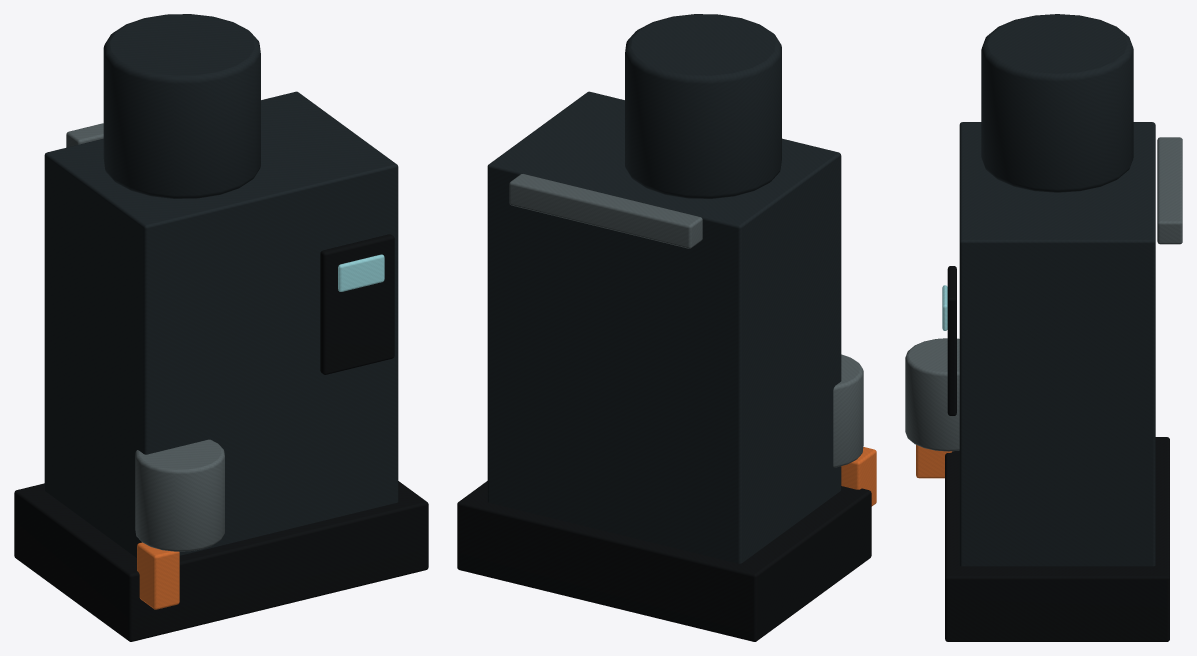
Rendered from PortableDeconUnit.glb.
3 views of the same model, side by side, from view 1: azimuth 30°, elevation 25°; view 2: azimuth 150°, elevation 25°; view 3: azimuth 270°, elevation 25° (orthographic). The views are drawn at different scales.
Parts seen in each view (by area): view 1: PortableDeconUnit_Mesh; view 2: PortableDeconUnit_Mesh; view 3: PortableDeconUnit_Mesh.
Part boxes in pixels (x1,y1,x2,y2): PortableDeconUnit_Mesh: [14, 14, 428, 641]; PortableDeconUnit_Mesh: [457, 14, 876, 641]; PortableDeconUnit_Mesh: [905, 14, 1182, 641].
Bounding box in the file's own units: 0.92 × 1.55 × 0.765.
Materials: 5 (5 with a texture image).
